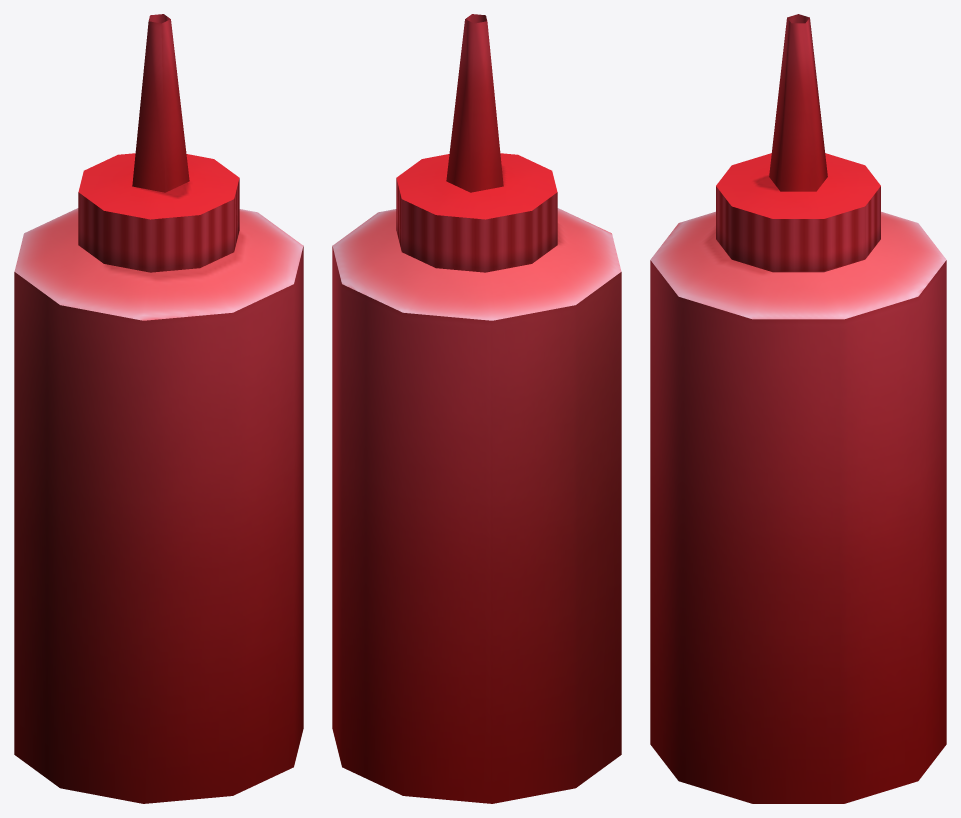
The model's file is TomatoKetchup.fbx.
3 renders of one model, left to right at view 1: azimuth 30°, elevation 25°; view 2: azimuth 150°, elevation 25°; view 3: azimuth 270°, elevation 25°, orthographic.
Parts seen in each view (by area): view 1: TomatoKetchup; view 2: TomatoKetchup; view 3: TomatoKetchup.
Boxes of the visible parts, bbox=[...] form: TomatoKetchup: bbox=[14, 14, 303, 803]; TomatoKetchup: bbox=[332, 14, 621, 803]; TomatoKetchup: bbox=[650, 14, 946, 803].
Bounding box in the file's own units: 2.62 × 7.45 × 2.76.
